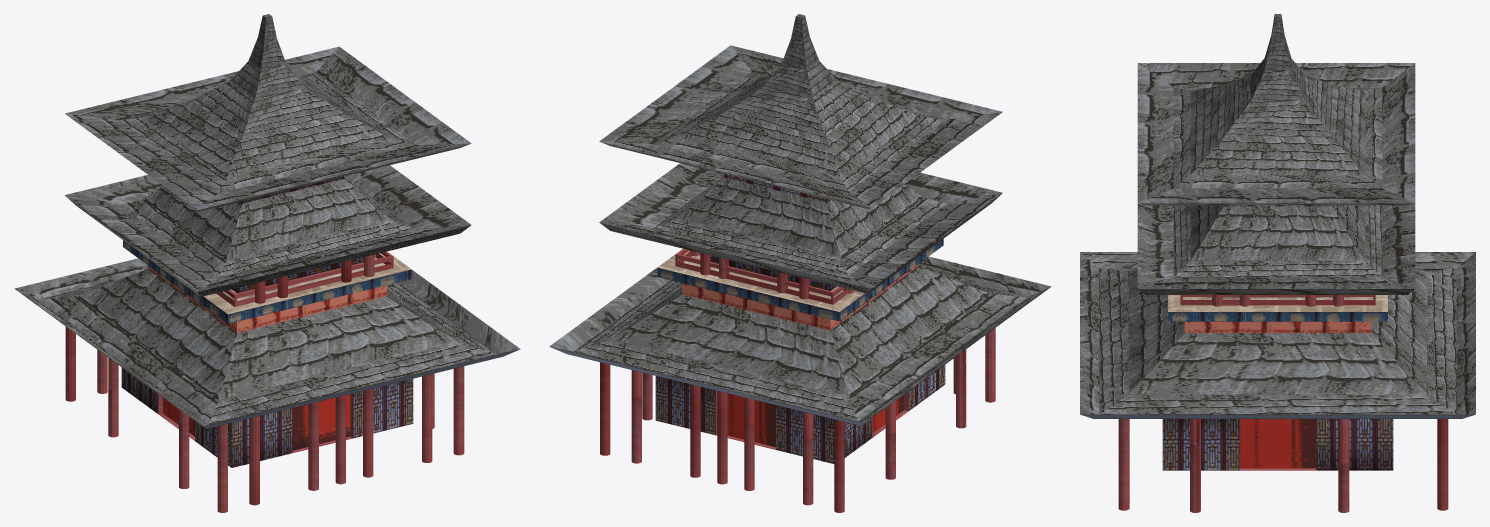
Rendered from chinatowncastle.fbx.
The picture shows the model from 3 angles, left to right: view 1: azimuth 30°, elevation 25°; view 2: azimuth 150°, elevation 25°; view 3: azimuth 270°, elevation 25°; orthographic projection. The views are drawn at different scales.
Visible parts, largest first — view 1: castlesecondbase_4, castlesecondbase_3, castlesecondbase_2, castlebase, castlesecondbase_1, castlebase_1, Barda, cylinder_26, cylinder_4, cylinder_2, cylinder_1, cylinder_27 (+6 smaller); view 2: castlesecondbase_4, castlesecondbase_3, castlesecondbase_2, castlebase, castlesecondbase_1, castlebase_1, Barda, cylinder_9, cylinder_33, cylinder_5, cylinder_7, cylinder_6 (+7 smaller); view 3: castlesecondbase_4, castlesecondbase_3, castlesecondbase_2, castlebase, castlesecondbase_1, castlebase_1, Barda, cylinder_36, cylinder_26, cylinder_32, cylinder_35.
Boxes of the visible parts, <box> form: castlesecondbase_4: <box>14,258,520,428</box>; castlesecondbase_3: <box>65,14,471,211</box>; castlesecondbase_2: <box>65,165,471,296</box>; castlebase: <box>121,367,413,467</box>; castlesecondbase_1: <box>123,240,411,323</box>; castlebase_1: <box>148,265,386,332</box>; Barda: <box>216,251,393,306</box>; cylinder_26: <box>453,366,464,455</box>; cylinder_4: <box>363,388,373,477</box>; cylinder_2: <box>308,401,318,490</box>; cylinder_1: <box>249,416,259,505</box>; cylinder_27: <box>422,374,432,462</box>; castlesecondbase_4: <box>549,256,1051,425</box>; castlesecondbase_3: <box>599,14,1002,208</box>; castlesecondbase_2: <box>599,163,1002,293</box>; castlebase: <box>655,365,945,463</box>; castlesecondbase_1: <box>657,239,943,321</box>; castlebase_1: <box>682,264,918,330</box>; Barda: <box>675,249,848,304</box>; cylinder_9: <box>690,384,700,477</box>; cylinder_33: <box>631,370,641,463</box>; cylinder_5: <box>834,419,844,512</box>; cylinder_7: <box>744,397,754,490</box>; cylinder_6: <box>803,412,813,505</box>; castlesecondbase_4: <box>1080,252,1475,418</box>; castlesecondbase_3: <box>1137,14,1415,205</box>; castlesecondbase_2: <box>1137,203,1415,294</box>; castlebase: <box>1162,419,1393,470</box>; castlesecondbase_1: <box>1168,295,1387,321</box>; castlebase_1: <box>1184,321,1371,332</box>; Barda: <box>1180,295,1375,305</box>; cylinder_36: <box>1338,419,1349,512</box>; cylinder_26: <box>1118,419,1129,510</box>; cylinder_32: <box>1437,419,1448,510</box>; cylinder_35: <box>1190,419,1200,512</box>.
Bounding box in the file's own units: 219 × 271 × 225.
Materials: 2 (2 with a texture image).
